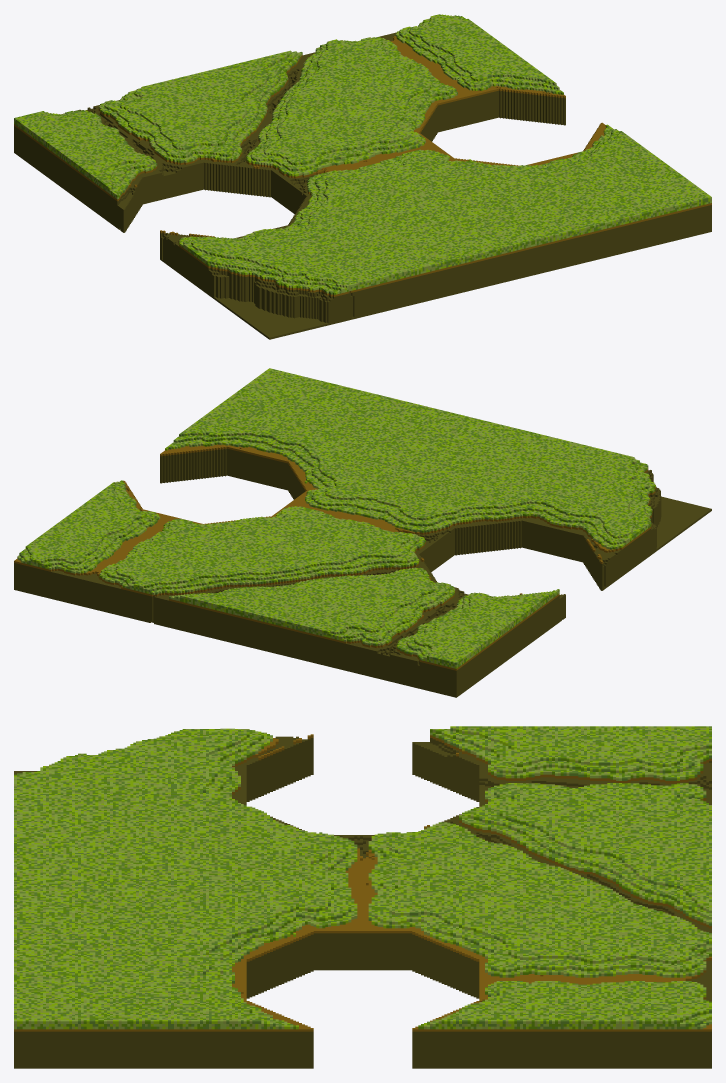
File: Tab A4-0.obj
3 views of the same model, one above another, from view 1: azimuth 30°, elevation 25°; view 2: azimuth 150°, elevation 25°; view 3: azimuth 270°, elevation 25° (orthographic). The views are drawn at different scales.
Bounding box in the file's own units: 24 × 1.8 × 24.
1 material, 1 textured.
